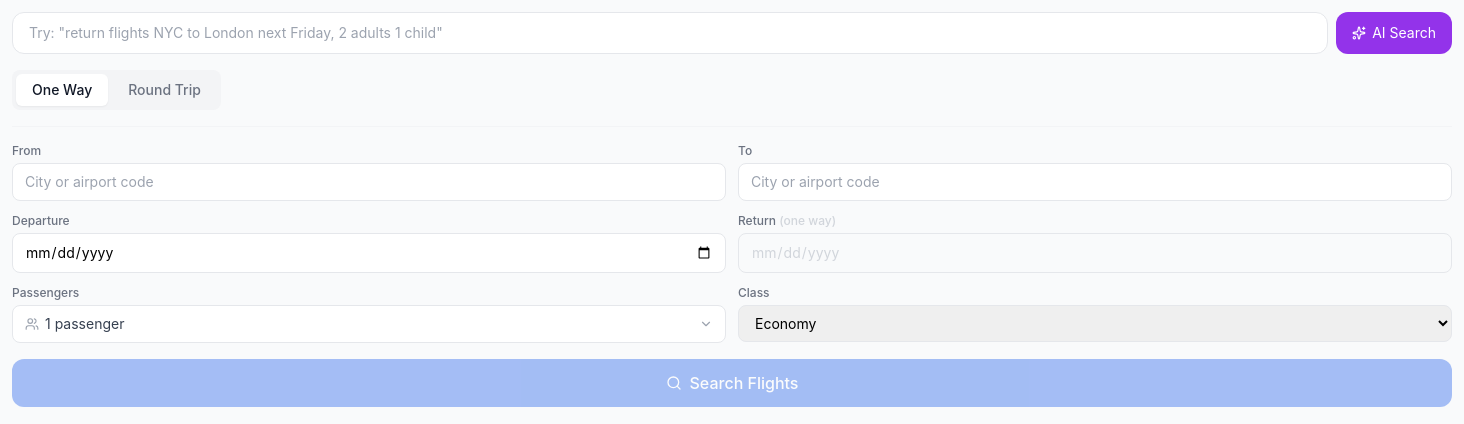
Test: SearchForm — trip type toggle › return date is enabled in Round Trip mode
Click the button "Round Trip". click: x=164, y=90
box: top-left (112, 74), bottom-right (217, 106)
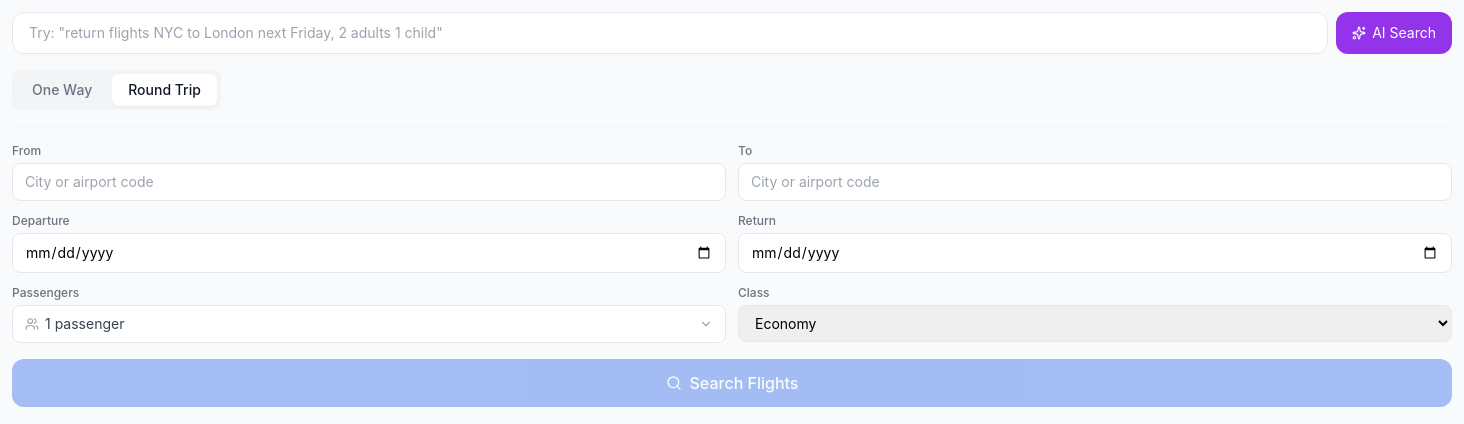
Expected: the date field labelled "Return" is enabled, top-left (738, 233), bottom-right (1452, 273)
